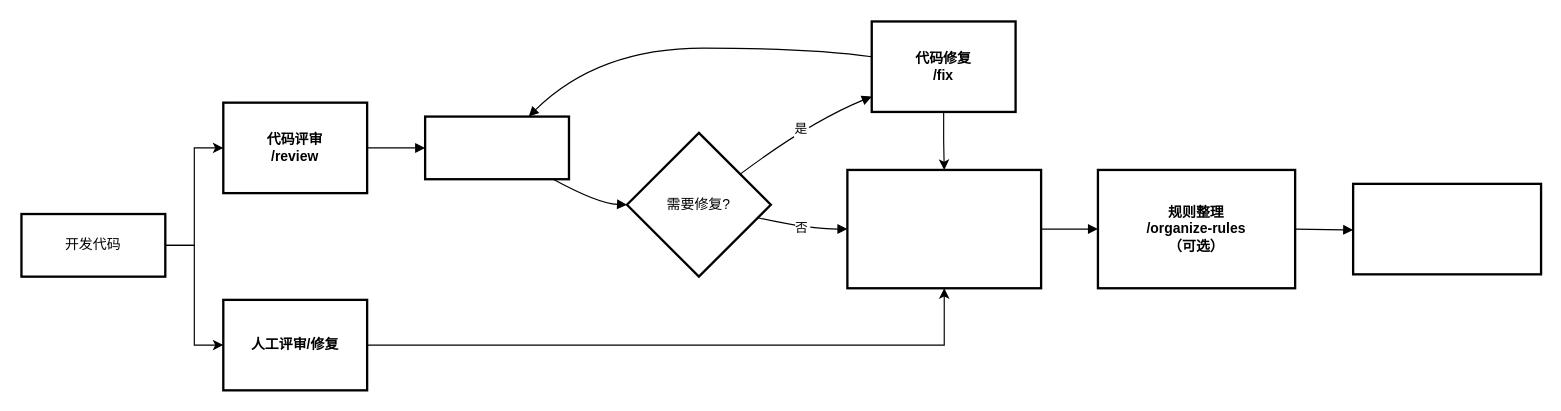
Image size: 1561x411. Some labels were removed from this diagram. Each missing label, with the centre of its shape:
"git commit（含评审报告）" goes at [1446,228].
"查看报告" goes at [496,147].
"规则生成 /generate-rule (可选）" goes at [944,228].
